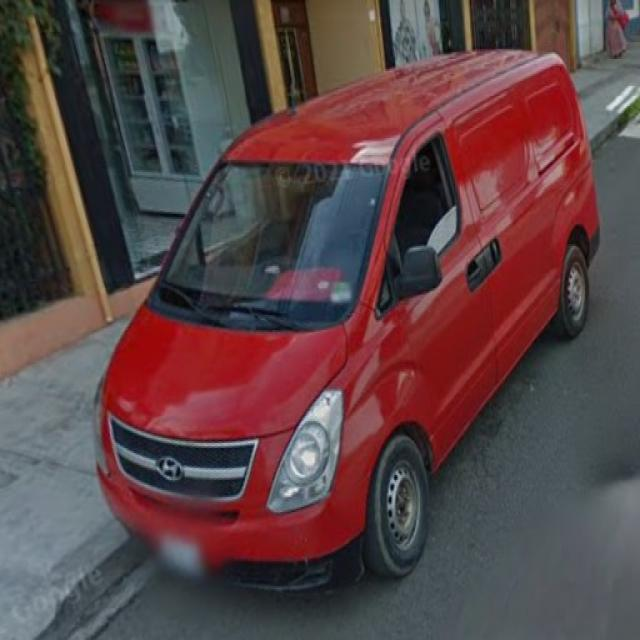cars: (89, 56, 595, 594)
